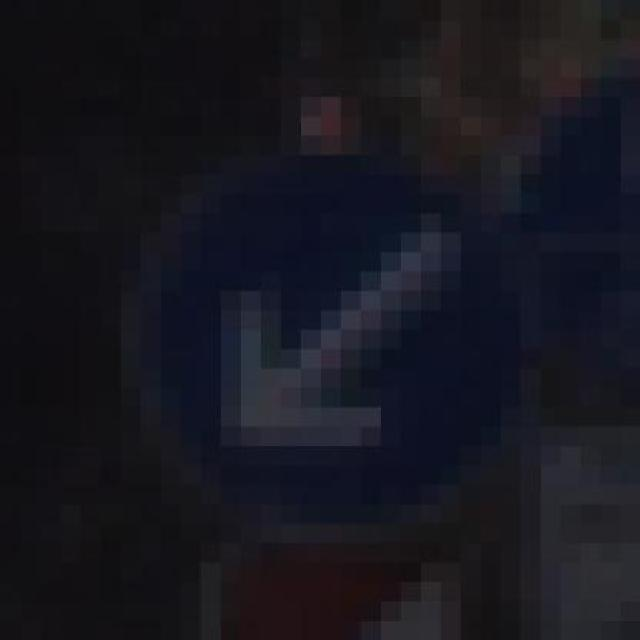Keep-Left: (120, 78, 560, 524)
